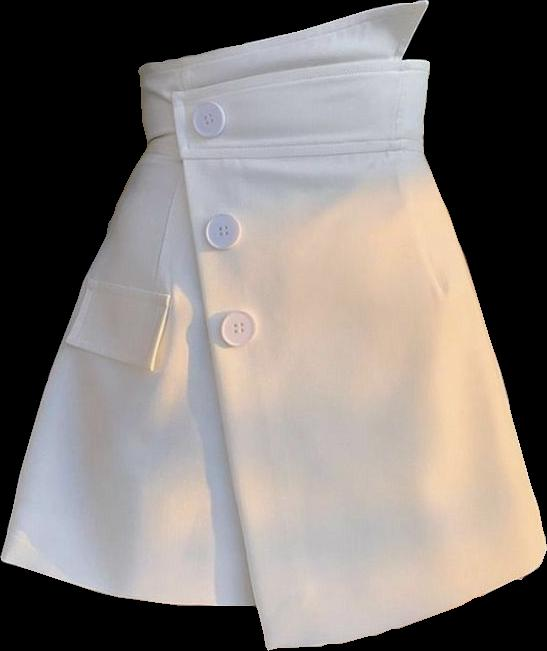Hemline: (172, 53, 546, 650), (0, 554, 261, 611)
Waistline: (139, 0, 432, 72)
